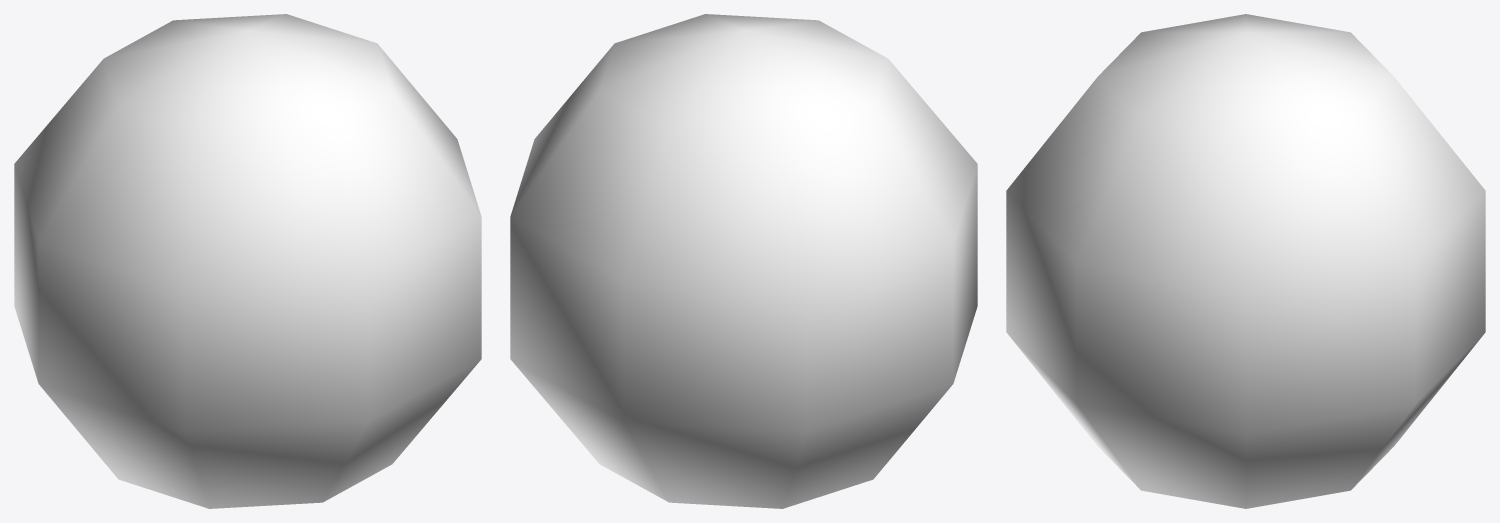
File: Snowball.gltf
3 views of the same model, side by side, from view 1: azimuth 30°, elevation 25°; view 2: azimuth 150°, elevation 25°; view 3: azimuth 270°, elevation 25° (orthographic).
Visible parts, largest first — view 1: Sphere; view 2: Sphere; view 3: Sphere.
Boxes of the visible parts, x1,y1,x2,y2 form: Sphere: (14, 14, 481, 508); Sphere: (510, 14, 977, 508); Sphere: (1006, 14, 1485, 508).
Bounding box in the file's own units: 0.1101 × 0.1158 × 0.1101.
Materials: 1 (1 with a texture image).
